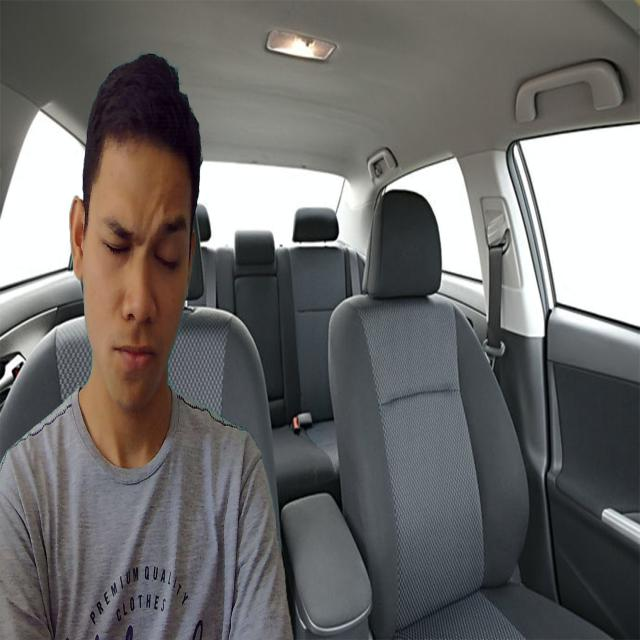no-seatbelt: (73, 100, 202, 420)
